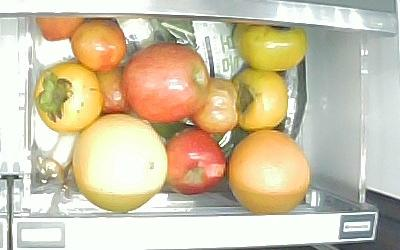apple: (122, 42, 209, 125), (163, 126, 228, 196)
grapefruit: (71, 114, 168, 213), (227, 129, 309, 213)
persimmon: (34, 62, 103, 134), (232, 21, 308, 70), (233, 69, 288, 131)
prune: (71, 18, 129, 72), (191, 77, 239, 134), (91, 64, 130, 116), (36, 14, 86, 42)
